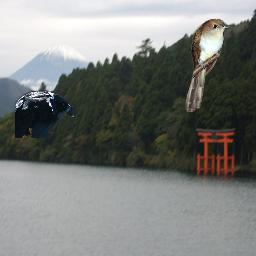Crow: (15, 91, 75, 138)
Cuckoo: (185, 18, 230, 112)
